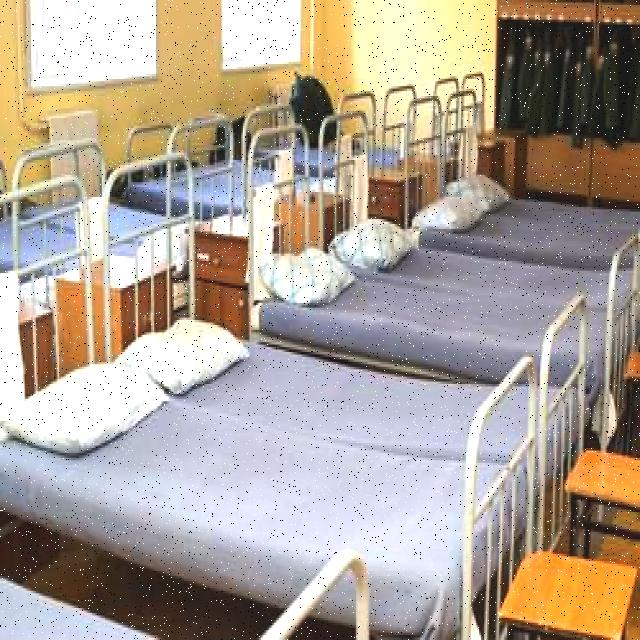bed: (14, 296, 568, 582), (255, 210, 640, 320), (415, 172, 640, 238)
